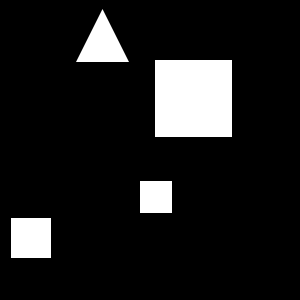circle: (155, 60, 232, 137), (11, 218, 51, 258), (140, 181, 172, 213)
triangle: (76, 9, 129, 62)
